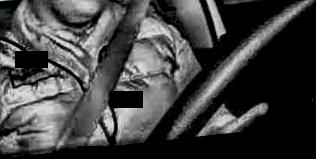seatbelt: (56, 0, 155, 154)
